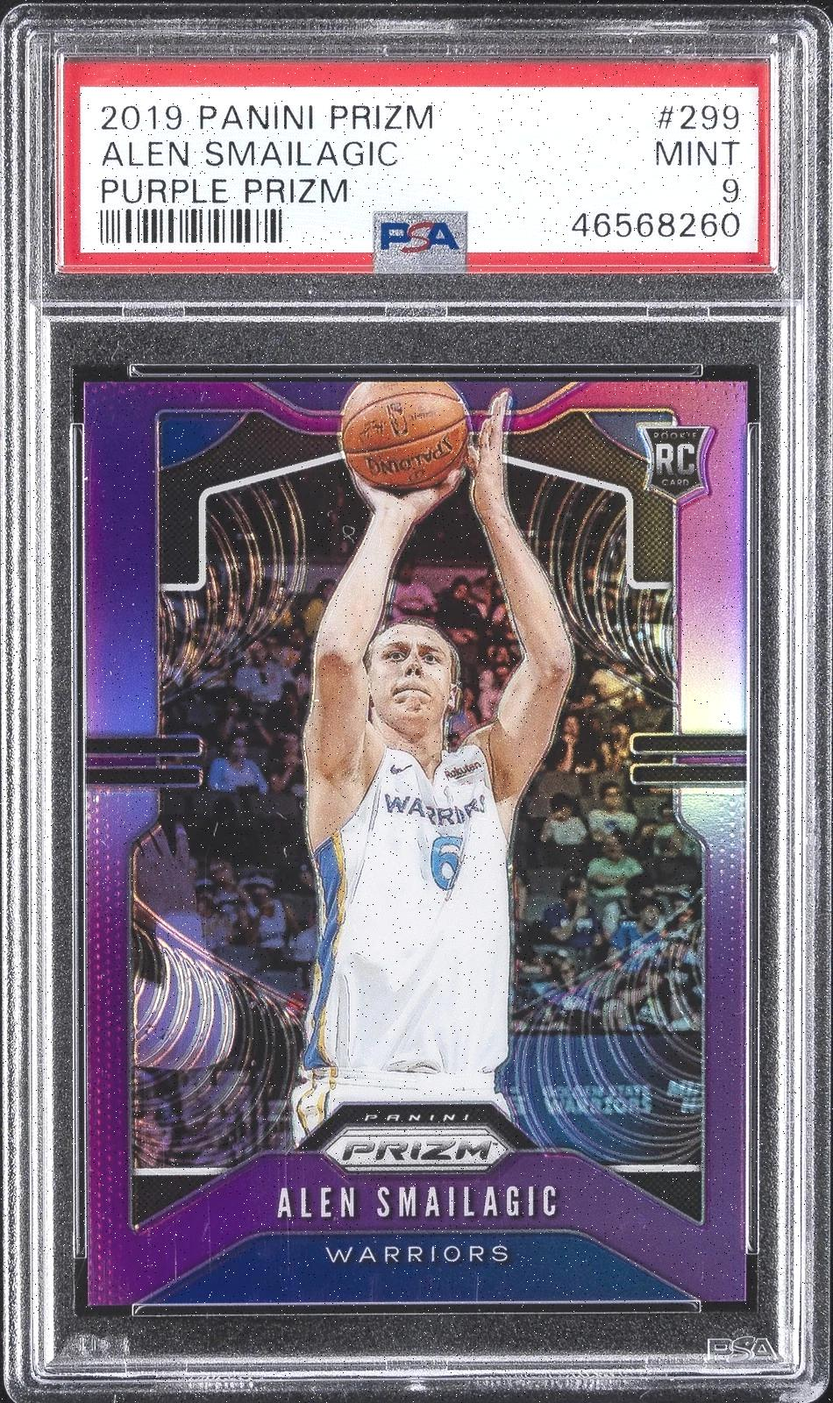card-2UtV: (83, 380, 749, 1307)
